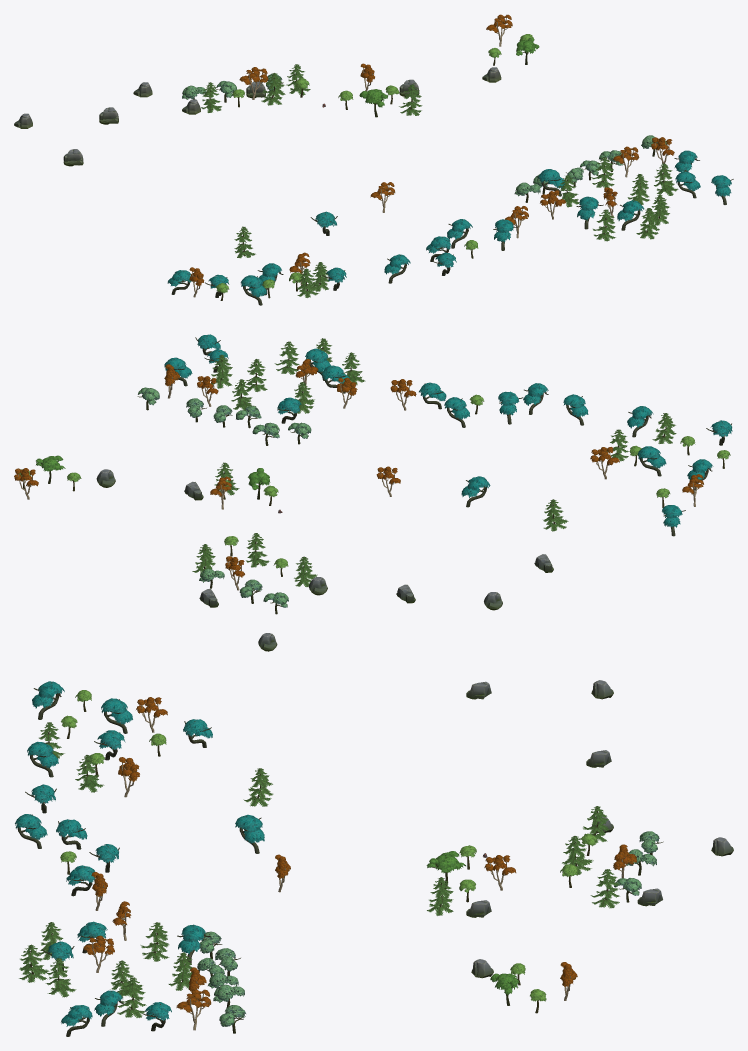
Rendered from overworld-5-3.gltf.
The picture shows the model from 3 angles, top to bottom: view 1: azimuth 30°, elevation 25°; view 2: azimuth 150°, elevation 25°; view 3: azimuth 270°, elevation 25°; orthographic projection. The views are drawn at different scales.
Visible parts, largest first — view 1: no part large enough to name; view 2: no part large enough to name; view 3: 7e2e11a73c6c1f6b77c7c18c44a87655900818e94c168e7a92bb0a48cc87 (×8), 883bf022a4c95c0b0a24ce14e7511dc7b18eb62759134961097aa30193af (×7), 133dae8ce562dbc4cbf0d0d2cb7dc4cb2baafed83b6c58ebd4446a365708.
Part boxes in pixels (x1,y1,x2,y2): 7e2e11a73c6c1f6b77c7c18c44a87655900818e94c168e7a92bb0a48cc87 (×8): (19, 768, 619, 1017); 883bf022a4c95c0b0a24ce14e7511dc7b18eb62759134961097aa30193af (×7): (15, 681, 264, 963); 133dae8ce562dbc4cbf0d0d2cb7dc4cb2baafed83b6c58ebd4446a365708: (176, 989, 211, 1030).
Size of the model in its own units: 129 by 15.75 by 126.
15 materials, 14 textured.
